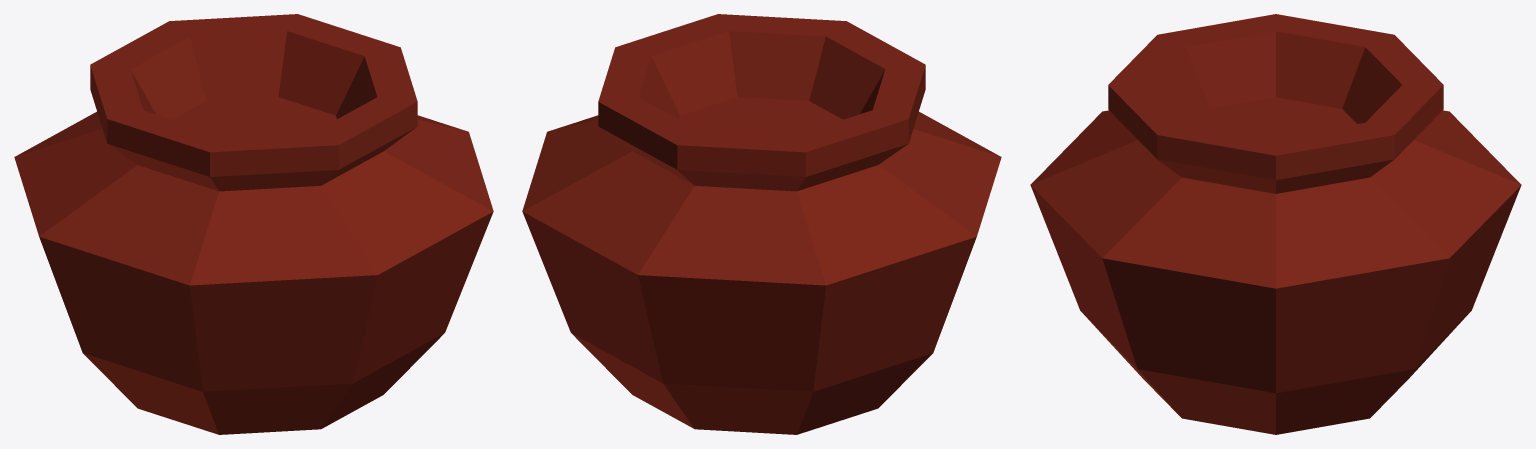
File: pot_3.obj
3 renders of one model, left to right at view 1: azimuth 30°, elevation 25°; view 2: azimuth 150°, elevation 25°; view 3: azimuth 270°, elevation 25°, orthographic.
Parts seen in each view (by area): view 1: pot_3_Cylinder.010; view 2: pot_3_Cylinder.010; view 3: pot_3_Cylinder.010.
Boxes of the visible parts, <box> form: pot_3_Cylinder.010: <box>14,14,493,434</box>; pot_3_Cylinder.010: <box>522,14,1001,434</box>; pot_3_Cylinder.010: <box>1030,14,1521,434</box>.
Bounding box in the file's own units: 0.866 × 0.5717 × 0.866.
